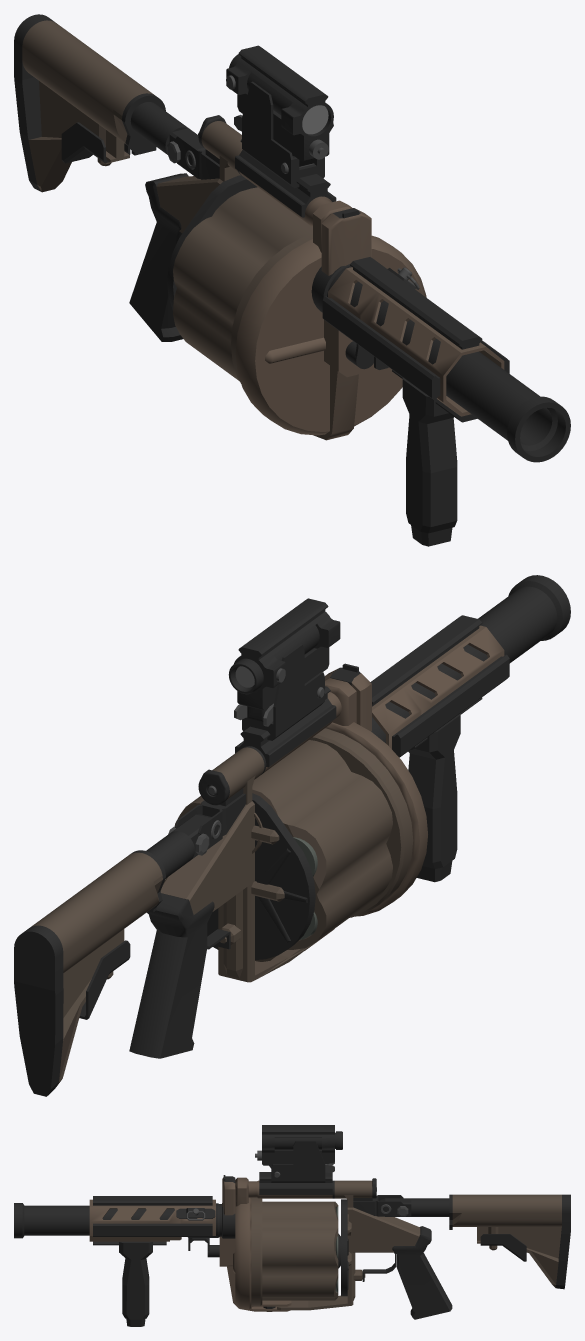
The model's file is MGL.glb.
3 renders of one model, top to bottom at view 1: azimuth 30°, elevation 25°; view 2: azimuth 150°, elevation 25°; view 3: azimuth 270°, elevation 25°, orthographic. The views are drawn at different scales.
Visible parts, largest first — view 1: object 5, object 7, GL1.001, object 4, object 2; view 2: GL1.001, object 5, object 7, object 4, object 2; view 3: object 5, GL1.001, object 4, object 7, object 2, object 6.
Part boxes in pixels (left/top/right/bottom): object 5: left=235, top=139, right=570, bottom=546; object 7: left=14, top=14, right=205, bottom=192; GL1.001: left=129, top=81, right=324, bottom=341; object 4: left=173, top=187, right=312, bottom=383; object 2: left=226, top=45, right=333, bottom=166; GL1.001: left=129, top=644, right=324, bottom=1058; object 5: left=235, top=575, right=570, bottom=950; object 7: left=14, top=814, right=211, bottom=1096; object 4: left=174, top=728, right=413, bottom=961; object 2: left=228, top=598, right=340, bottom=726; object 5: left=14, top=1172, right=334, bottom=1326; GL1.001: left=271, top=1141, right=452, bottom=1319; object 4: left=251, top=1197, right=340, bottom=1305; object 7: left=380, top=1194, right=570, bottom=1289; object 2: left=255, top=1125, right=342, bottom=1172; object 6: left=188, top=1238, right=219, bottom=1257.
Bounding box in the file's own units: 0.1924 × 0.3567 × 0.9197.
